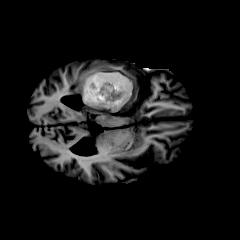glioma: (76, 70, 142, 114)
